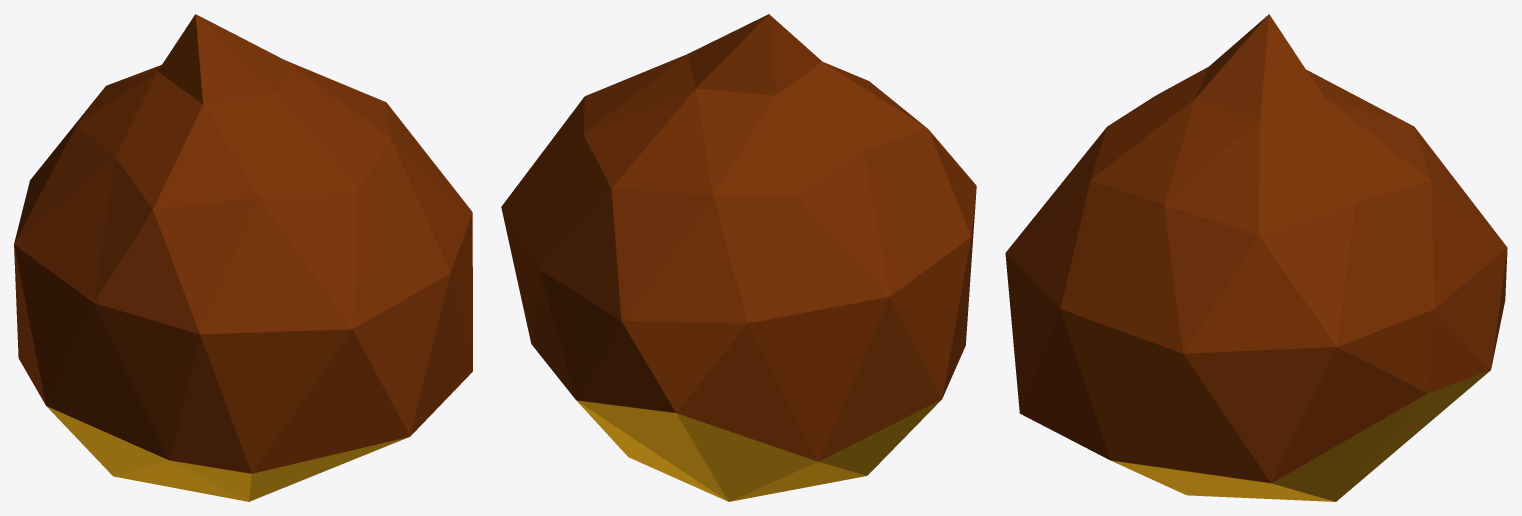
The model's file is chestnut.fbx.
3 views of the same model, side by side, from view 1: azimuth 30°, elevation 25°; view 2: azimuth 150°, elevation 25°; view 3: azimuth 270°, elevation 25° (orthographic). The views are drawn at different scales.
Parts seen in each view (by area): view 1: Icosphere; view 2: Icosphere; view 3: Icosphere.
Part boxes in pixels (x1,y1,x2,y2): Icosphere: (14,14,472,501); Icosphere: (501,14,976,501); Icosphere: (1005,14,1507,501).
Size of the model in its own units: 116 by 124 by 127.
